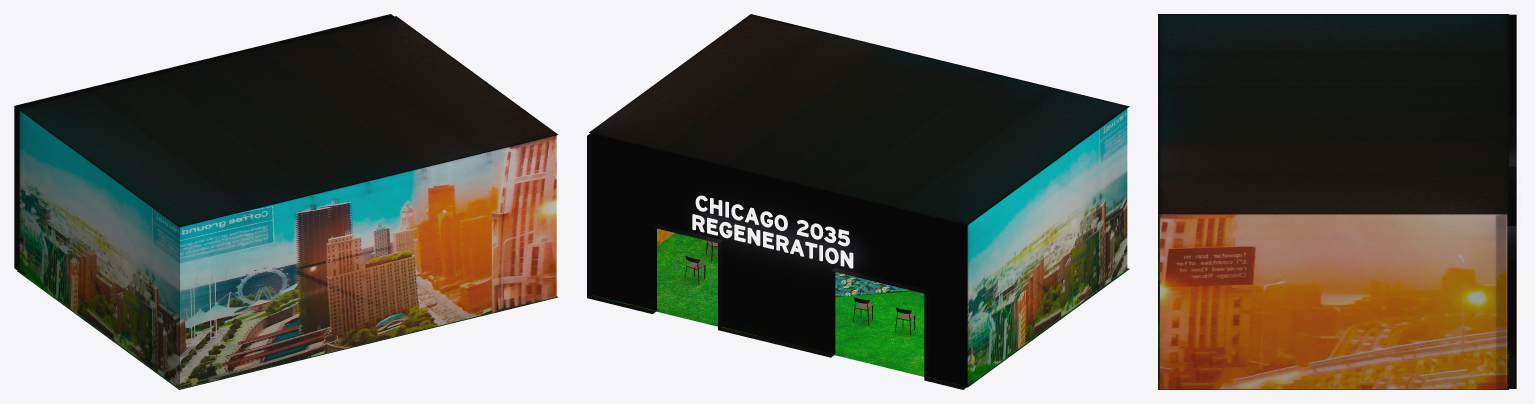
The model's file is CREthan.glb.
3 views of the same model, side by side, from view 1: azimuth 30°, elevation 25°; view 2: azimuth 150°, elevation 25°; view 3: azimuth 270°, elevation 25° (orthographic). The views are drawn at different scales.
Visible parts, largest first — view 1: CR_2035_video_wall, CR_2035_ceiling, CR_2035_wall, CR_2035_floor; view 2: CR_2035_ceiling, CR_2035_wall, CR_2035_video_wall, CR_2035_floor, CR_2035_signage, CR_2035_blanket, CR_2035_furniture; view 3: CR_2035_ceiling, CR_2035_video_wall, CR_2035_wall, CR_2035_floor.
Part boxes in pixels (<box>): CR_2035_video_wall: <box>19,111,556,388</box>; CR_2035_ceiling: <box>17,16,558,227</box>; CR_2035_wall: <box>14,14,393,270</box>; CR_2035_floor: <box>17,271,558,389</box>; CR_2035_ceiling: <box>589,14,1129,224</box>; CR_2035_wall: <box>587,133,967,389</box>; CR_2035_video_wall: <box>657,109,1127,385</box>; CR_2035_floor: <box>591,233,1129,387</box>; CR_2035_signage: <box>692,195,853,268</box>; CR_2035_blanket: <box>835,272,910,296</box>; CR_2035_furniture: <box>684,241,915,335</box>; CR_2035_ceiling: <box>1158,14,1508,214</box>; CR_2035_video_wall: <box>1160,214,1507,389</box>; CR_2035_wall: <box>1507,14,1516,388</box>; CR_2035_floor: <box>1158,214,1508,389</box>.
Size of the model in its own units: 12.32 by 5.05 by 9.44.
Materials: 8 (7 with a texture image).
